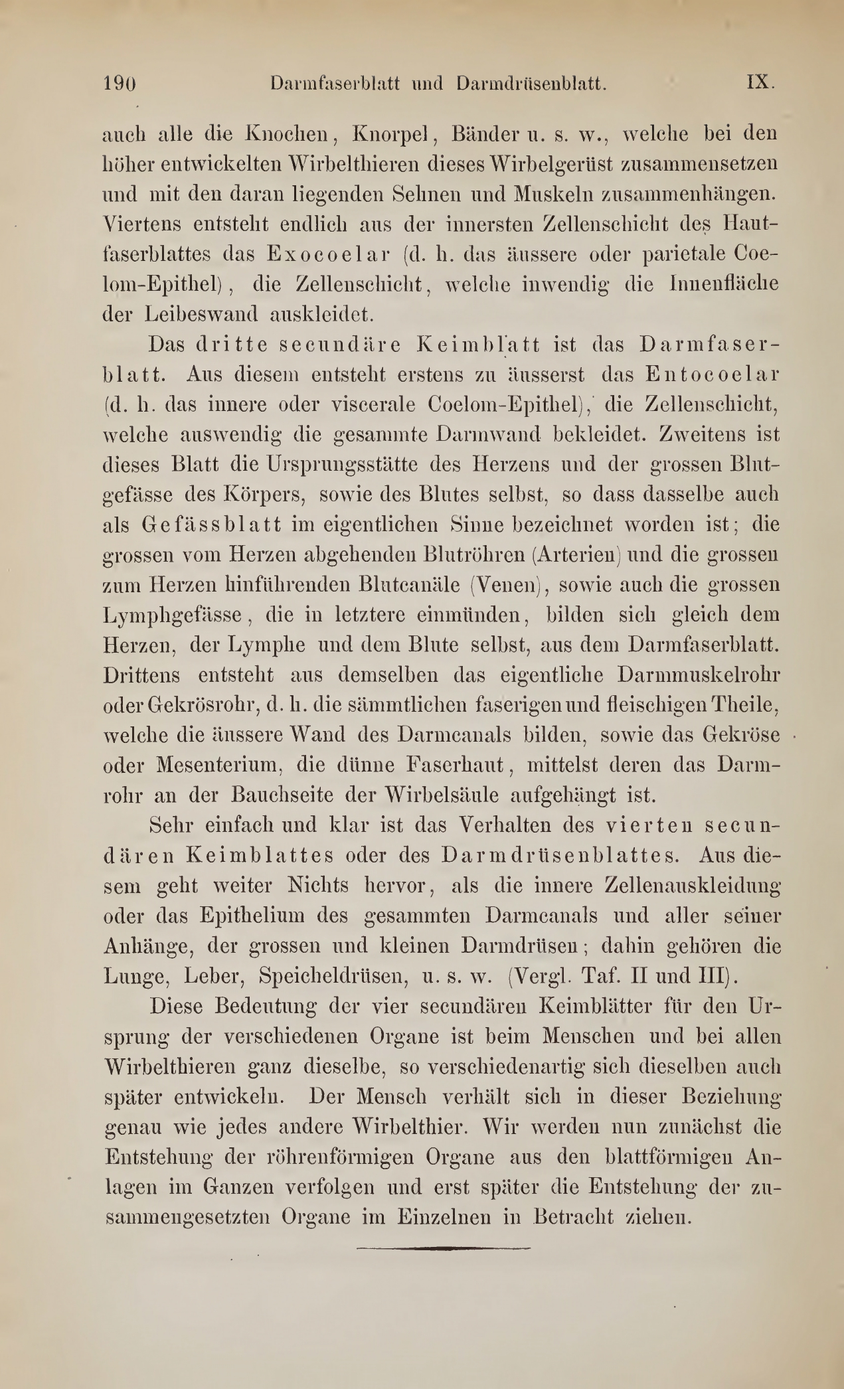MainZone: (75, 120, 809, 1239)
NumberingZone chapter: (728, 60, 788, 104)
NumberingZone_page: (85, 58, 158, 109)
RunningTitleZone: (259, 58, 625, 108)
